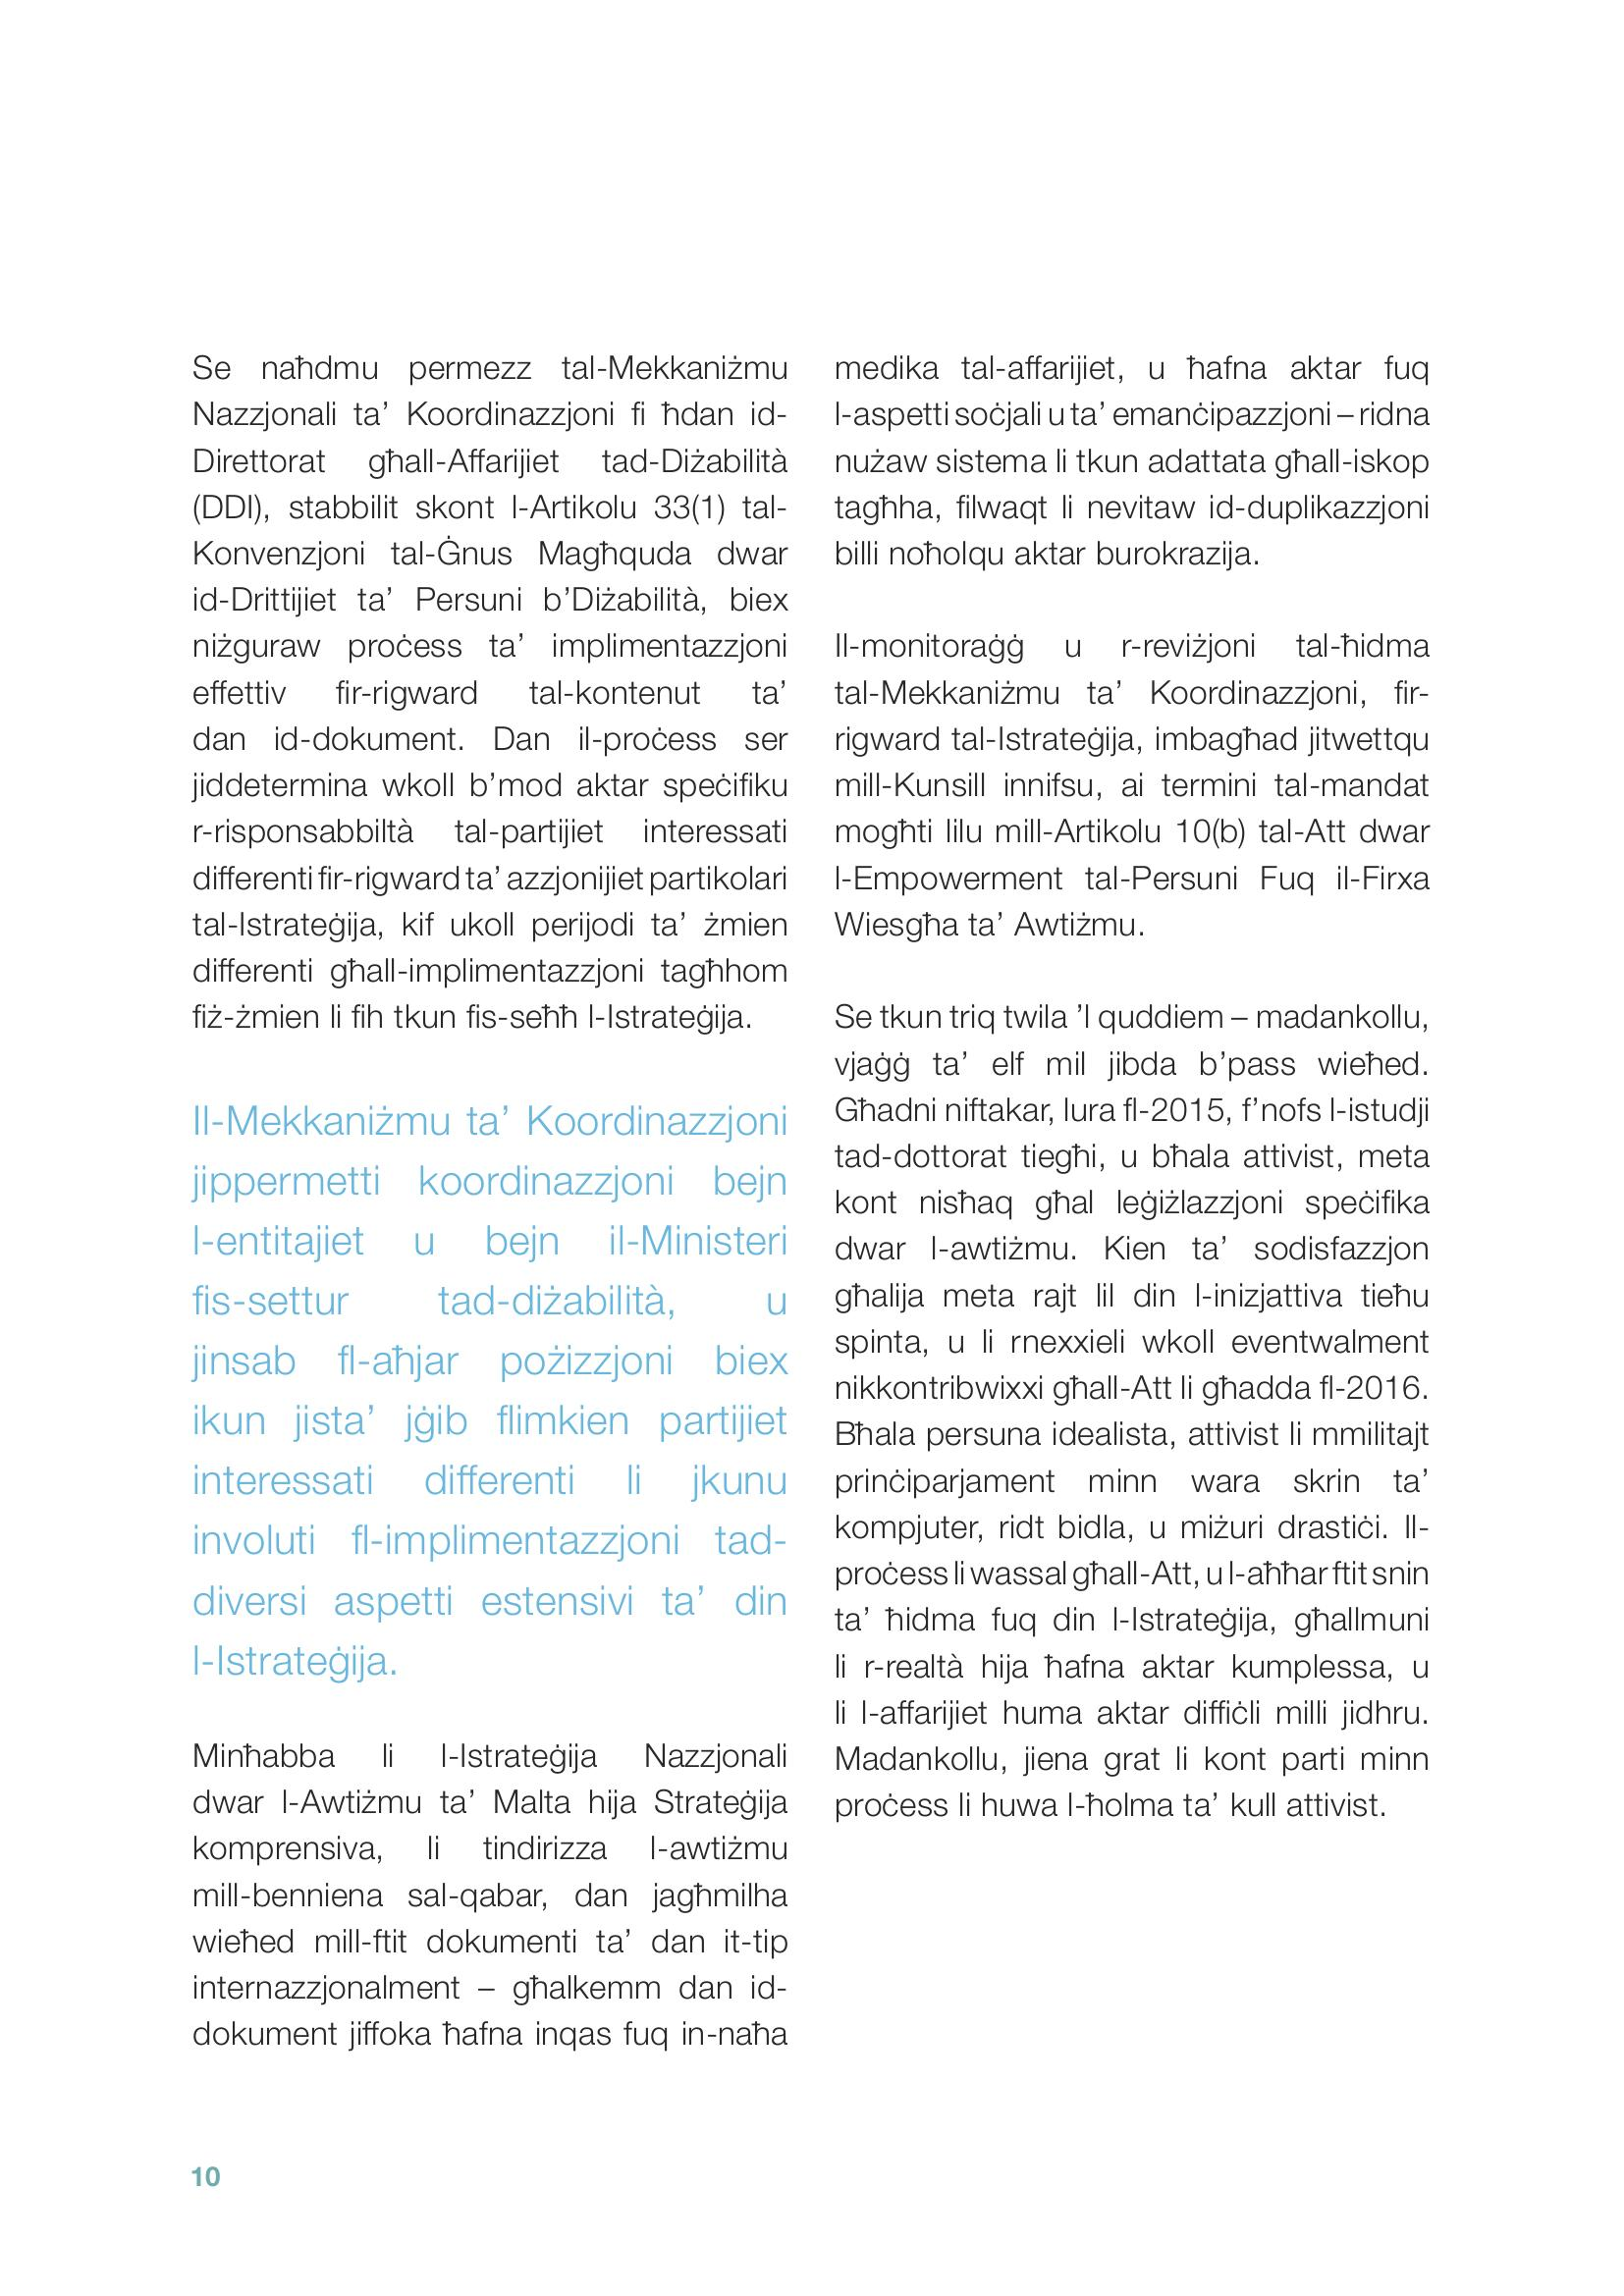text: (174, 336, 803, 2071), (803, 336, 1454, 1862)
